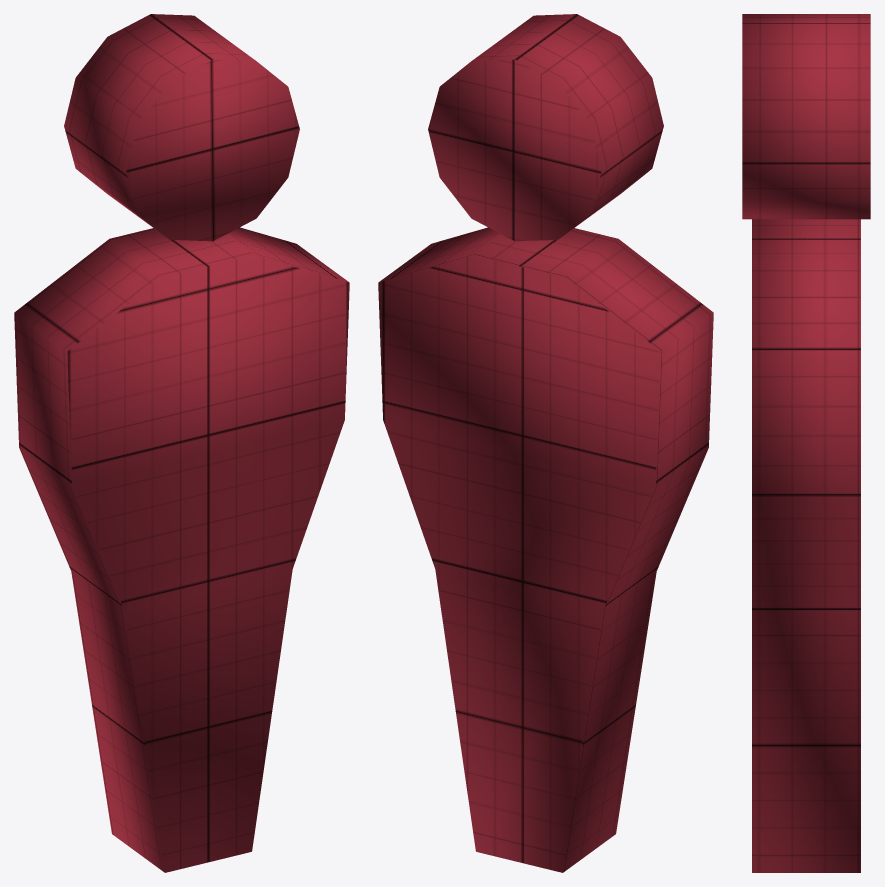
File: Character.glb
The picture shows the model from 3 angles, left to right: view 1: azimuth 30°, elevation 25°; view 2: azimuth 150°, elevation 25°; view 3: azimuth 270°, elevation 25°; orthographic projection. The views are drawn at different scales.
Parts seen in each view (by area): view 1: Character; view 2: Character; view 3: Character.
Part boxes in pixels (<box>): Character: <box>14,14,349,872</box>; Character: <box>378,14,713,872</box>; Character: <box>742,14,870,872</box>.
Bounding box in the file's own units: 0.6506 × 1.77 × 0.2486.
1 material, 1 textured.
